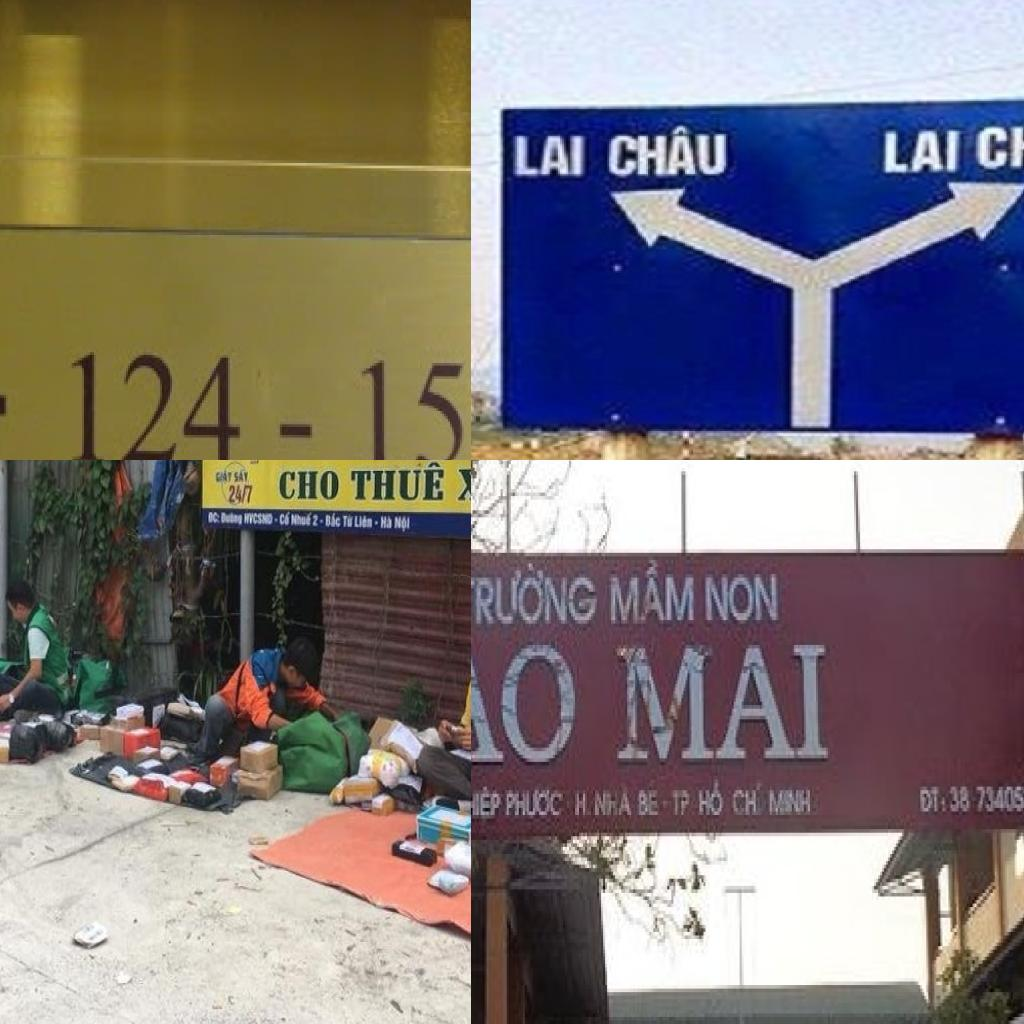text: (613, 641, 832, 769), (72, 346, 242, 460), (471, 637, 579, 772), (360, 360, 471, 460), (471, 560, 601, 631), (605, 122, 732, 181), (609, 556, 698, 631), (347, 460, 447, 506), (878, 126, 966, 177), (703, 571, 782, 627), (511, 131, 591, 181), (277, 468, 341, 504), (505, 787, 567, 822), (768, 787, 814, 822), (593, 787, 635, 822), (471, 783, 504, 825), (698, 780, 728, 822), (918, 783, 948, 819), (730, 787, 760, 822), (638, 787, 662, 822), (670, 787, 694, 822), (573, 787, 595, 822), (227, 483, 255, 508), (454, 464, 471, 505), (278, 422, 316, 440), (214, 467, 234, 487), (355, 515, 380, 531), (290, 511, 313, 528), (220, 512, 244, 528), (393, 514, 412, 534), (234, 467, 251, 486), (325, 512, 342, 530), (207, 509, 221, 526), (279, 511, 292, 528), (342, 513, 355, 530), (380, 515, 393, 531), (312, 515, 320, 528), (320, 520, 324, 526)
